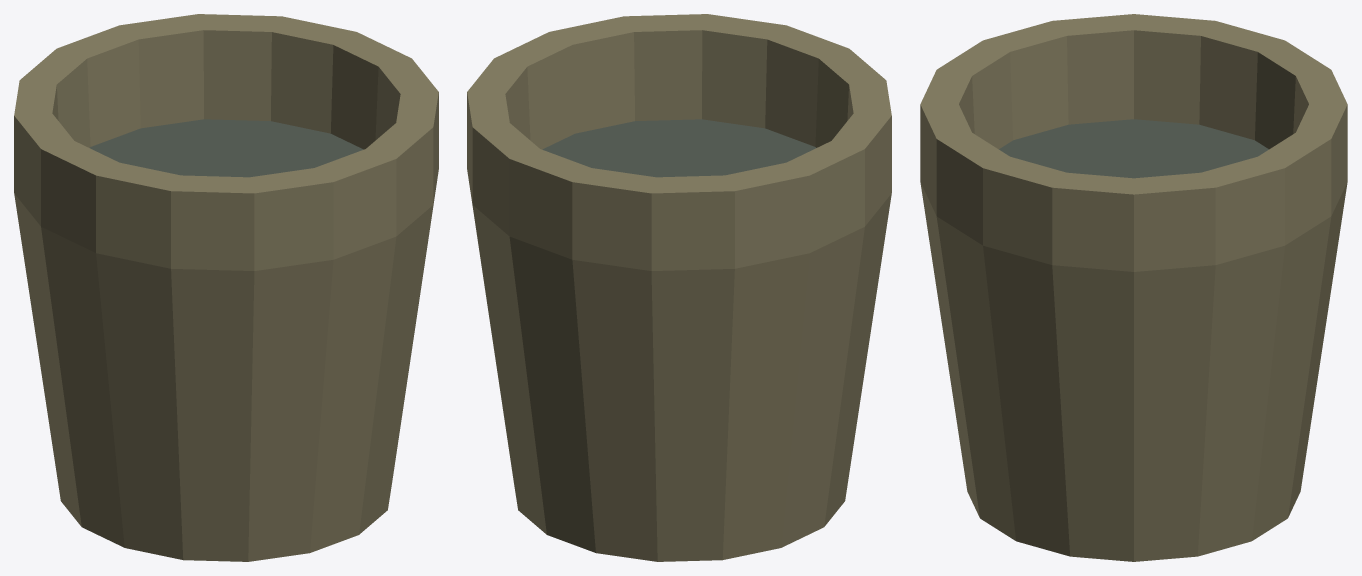
File: ArrivalPlanter.obj
3 renders of one model, left to right at view 1: azimuth 30°, elevation 25°; view 2: azimuth 150°, elevation 25°; view 3: azimuth 270°, elevation 25°, orthographic.
Visible parts, largest first — view 1: ArrivalPlanter; view 2: ArrivalPlanter; view 3: ArrivalPlanter.
Part boxes in pixels (<box>): ArrivalPlanter: <box>14,14,438,561</box>; ArrivalPlanter: <box>467,14,891,561</box>; ArrivalPlanter: <box>920,14,1347,561</box>.
Size of the model in its own units: 2 by 2 by 2.
